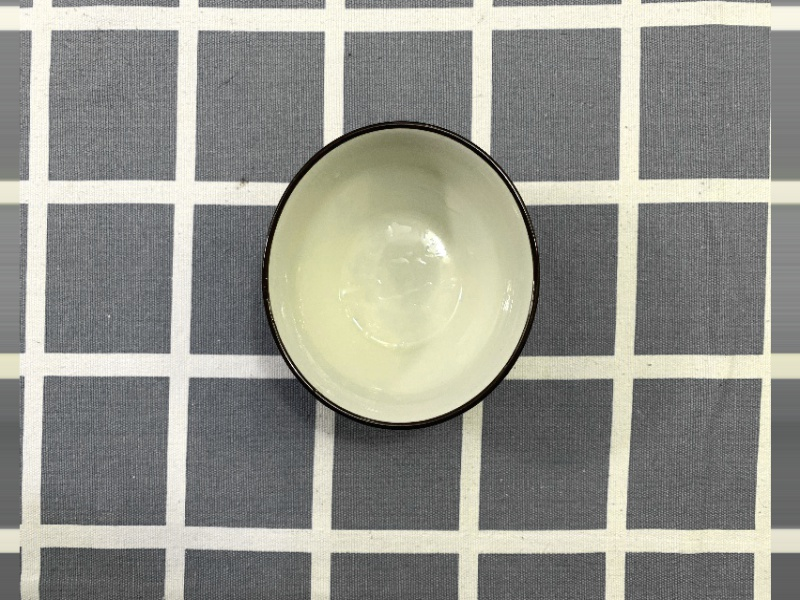bowl_small: (252, 114, 547, 439)
